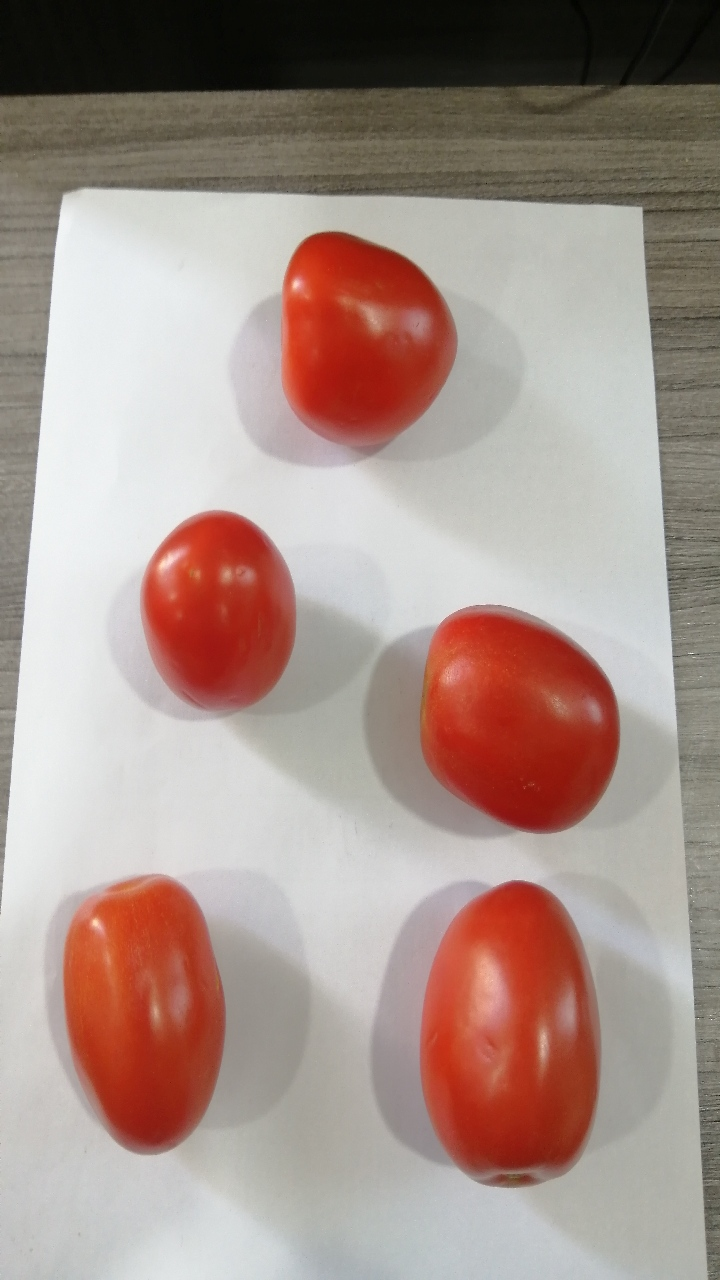tomateRojo: (374, 868, 612, 1203), (32, 845, 240, 1197), (384, 575, 632, 839), (255, 205, 469, 466), (111, 494, 301, 742)
